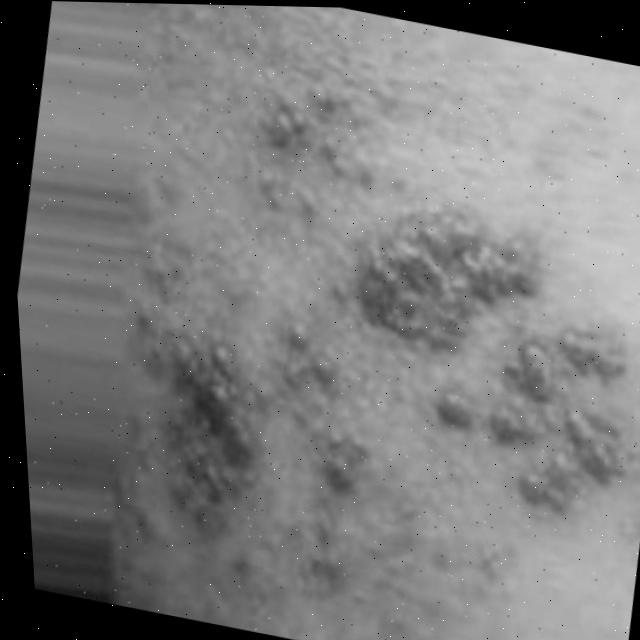Shingles: (64, 32, 640, 640)
